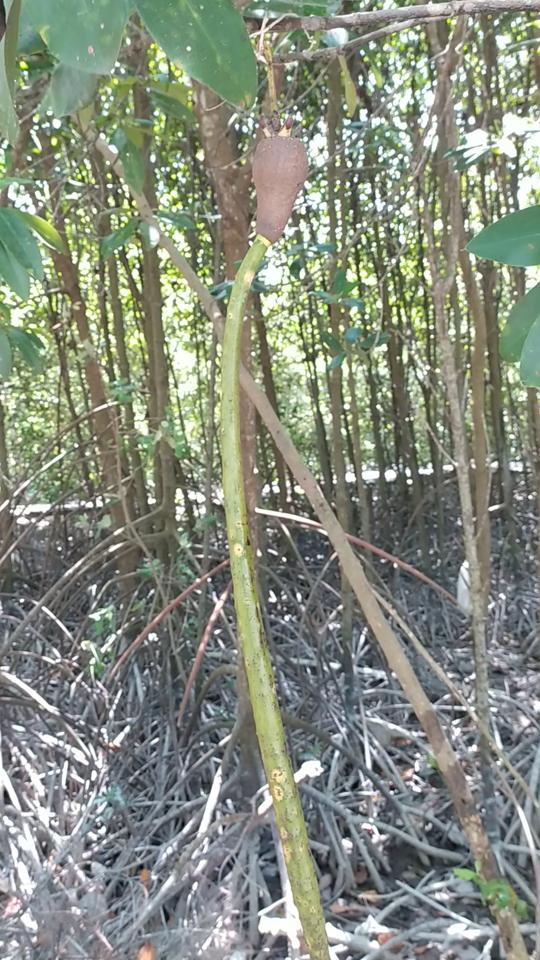setengah matang: (215, 108, 356, 959)
